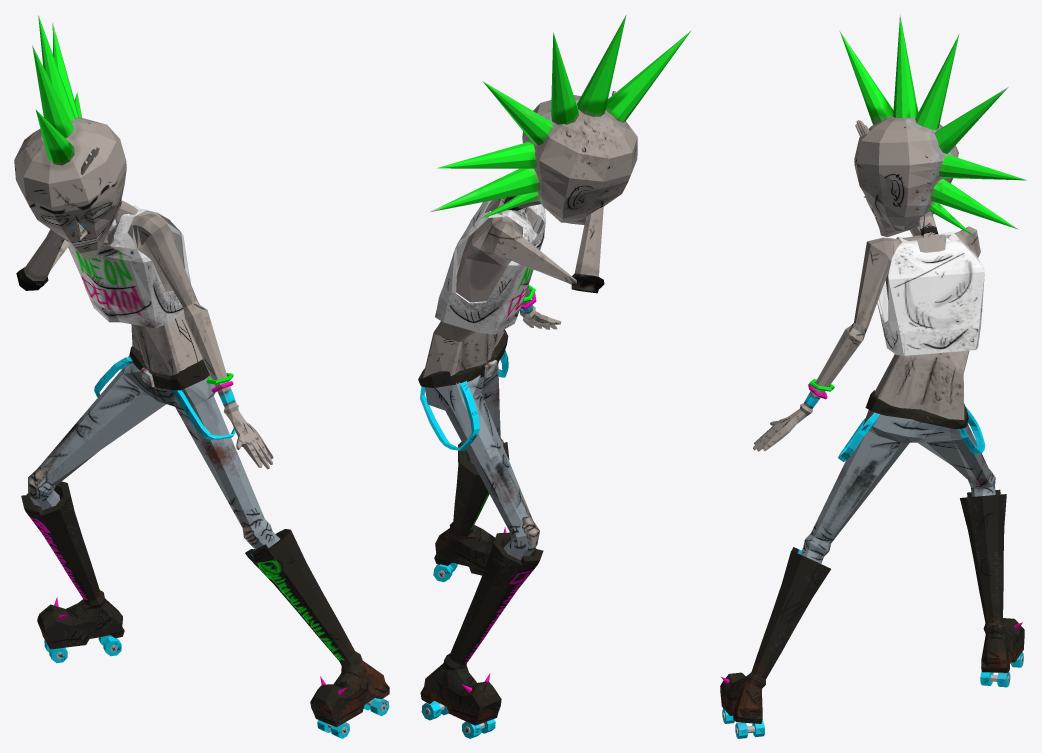
The model's file is punkAnimation_000059.obj.
3 renders of one model, left to right at view 1: azimuth 30°, elevation 25°; view 2: azimuth 150°, elevation 25°; view 3: azimuth 270°, elevation 25°, orthographic. The views are drawn at different scales.
Visible parts, largest first — view 1: Cube.004_Cube.003; view 2: Cube.004_Cube.003; view 3: Cube.004_Cube.003.
Part boxes in pixels (<box>): Cube.004_Cube.003: <box>14,15,389,738</box>; Cube.004_Cube.003: <box>418,15,691,738</box>; Cube.004_Cube.003: <box>720,14,1026,738</box>.
Size of the model in its own units: 3.11 by 6.72 by 3.05.
